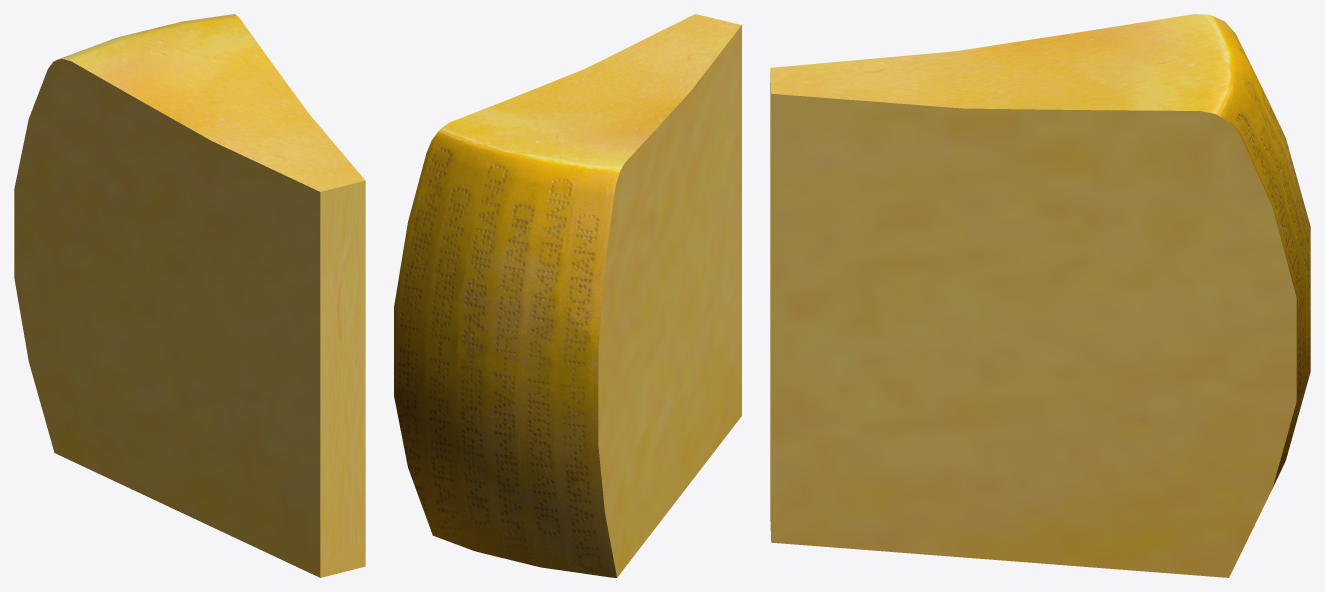
The model's file is cheese3.fbx.
3 renders of one model, left to right at view 1: azimuth 30°, elevation 25°; view 2: azimuth 150°, elevation 25°; view 3: azimuth 270°, elevation 25°, orthographic. The views are drawn at different scales.
Parts seen in each view (by area): view 1: big_cheese1; view 2: big_cheese1; view 3: big_cheese1.
Boxes of the visible parts, box(x1,y1,x2,y2) form: big_cheese1: box(14, 14, 365, 577); big_cheese1: box(394, 14, 741, 577); big_cheese1: box(770, 14, 1310, 577).
Size of what is drawn, in the model's own units: 8.02 by 15.38 by 16.2.
